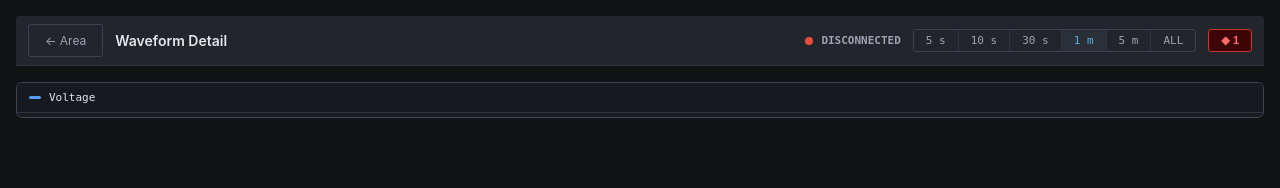
Test: Level3Detail — alarm panel › alarm panel is hidden again after a second toggle click
Click the button with class "hmi-alarm-badge".
click(1230, 40)  # box left=1208, top=29, right=1252, bottom=52
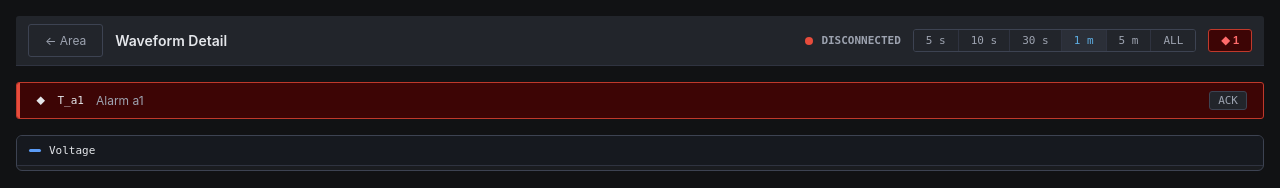
Click the button with class "hmi-alarm-badge".
click(1230, 40)  # box left=1208, top=29, right=1252, bottom=52
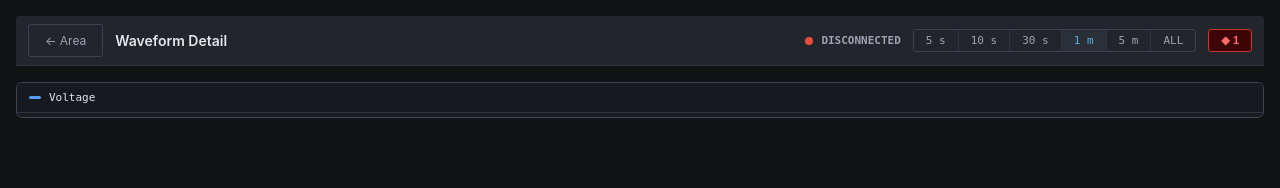
Check: the element with class "hmi-alarm-panel" is gone
